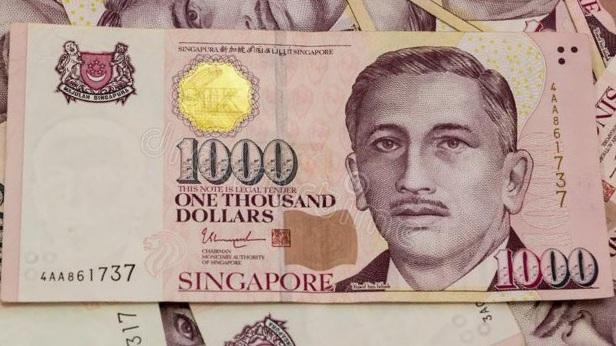1000SingaporeDollar: (13, 33, 597, 294)
